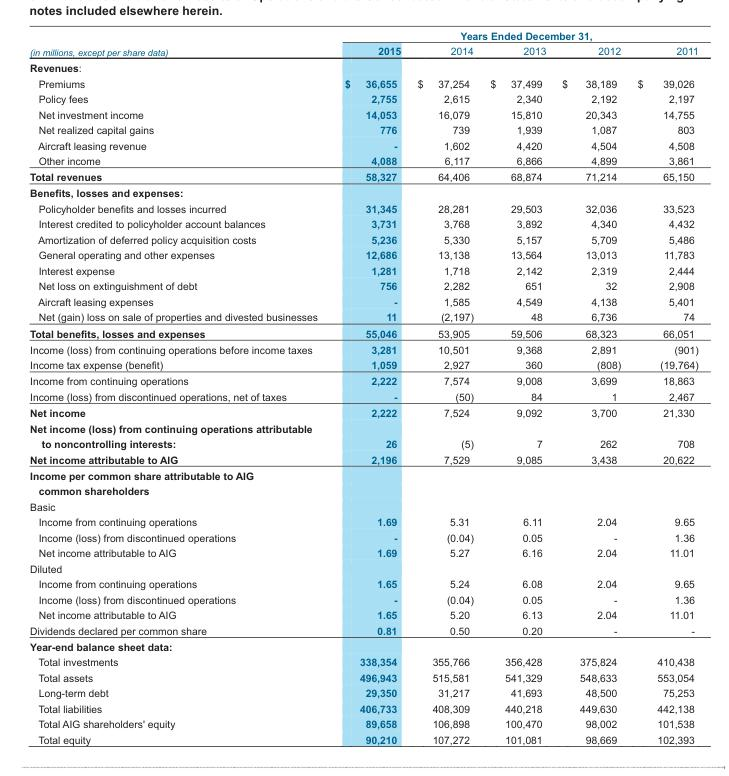table: (29, 29, 697, 745)
table column: (29, 29, 330, 745), (330, 29, 408, 745), (553, 29, 628, 745), (408, 29, 481, 745), (481, 29, 553, 745), (628, 29, 697, 745)
table column header: (29, 29, 697, 59)
table projected row header: (29, 59, 697, 75), (29, 184, 697, 200), (29, 482, 697, 498), (29, 638, 697, 654), (29, 420, 697, 435), (29, 467, 697, 482), (29, 498, 697, 513), (29, 560, 697, 575)
table row: (29, 42, 697, 59), (29, 324, 697, 341), (29, 59, 697, 75), (29, 90, 697, 106), (29, 121, 697, 137), (29, 152, 697, 168), (29, 168, 697, 184), (29, 184, 697, 200), (29, 200, 697, 216), (29, 231, 697, 247), (29, 262, 697, 278), (29, 293, 697, 309), (29, 356, 697, 372), (29, 372, 697, 388), (29, 388, 697, 404), (29, 404, 697, 420), (29, 435, 697, 451), (29, 451, 697, 467), (29, 482, 697, 498), (29, 513, 697, 529), (29, 544, 697, 560), (29, 575, 697, 591), (29, 606, 697, 622), (29, 622, 697, 638), (29, 638, 697, 654), (29, 669, 697, 685), (29, 700, 697, 716), (29, 75, 697, 90), (29, 106, 697, 121), (29, 137, 697, 152), (29, 216, 697, 231), (29, 247, 697, 262), (29, 278, 697, 293), (29, 309, 697, 324), (29, 341, 697, 356), (29, 420, 697, 435), (29, 467, 697, 482), (29, 498, 697, 513), (29, 529, 697, 544), (29, 560, 697, 575), (29, 591, 697, 606), (29, 654, 697, 669), (29, 685, 697, 700), (29, 716, 697, 731), (29, 731, 697, 745), (29, 29, 697, 42)
table spanning cell: (29, 29, 330, 59), (330, 29, 697, 42)
